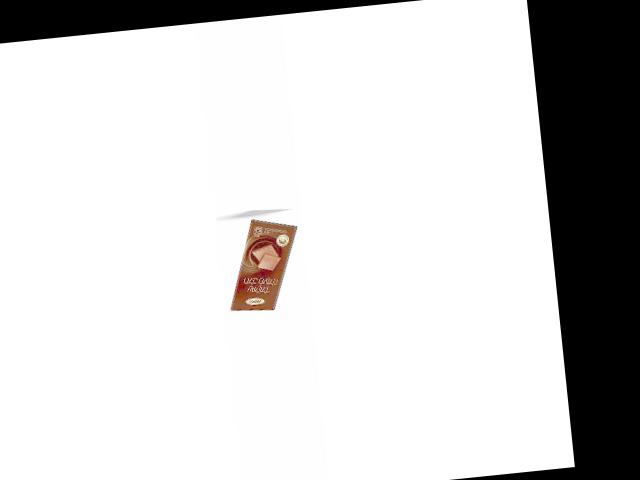chocolate: (219, 210, 308, 315)
